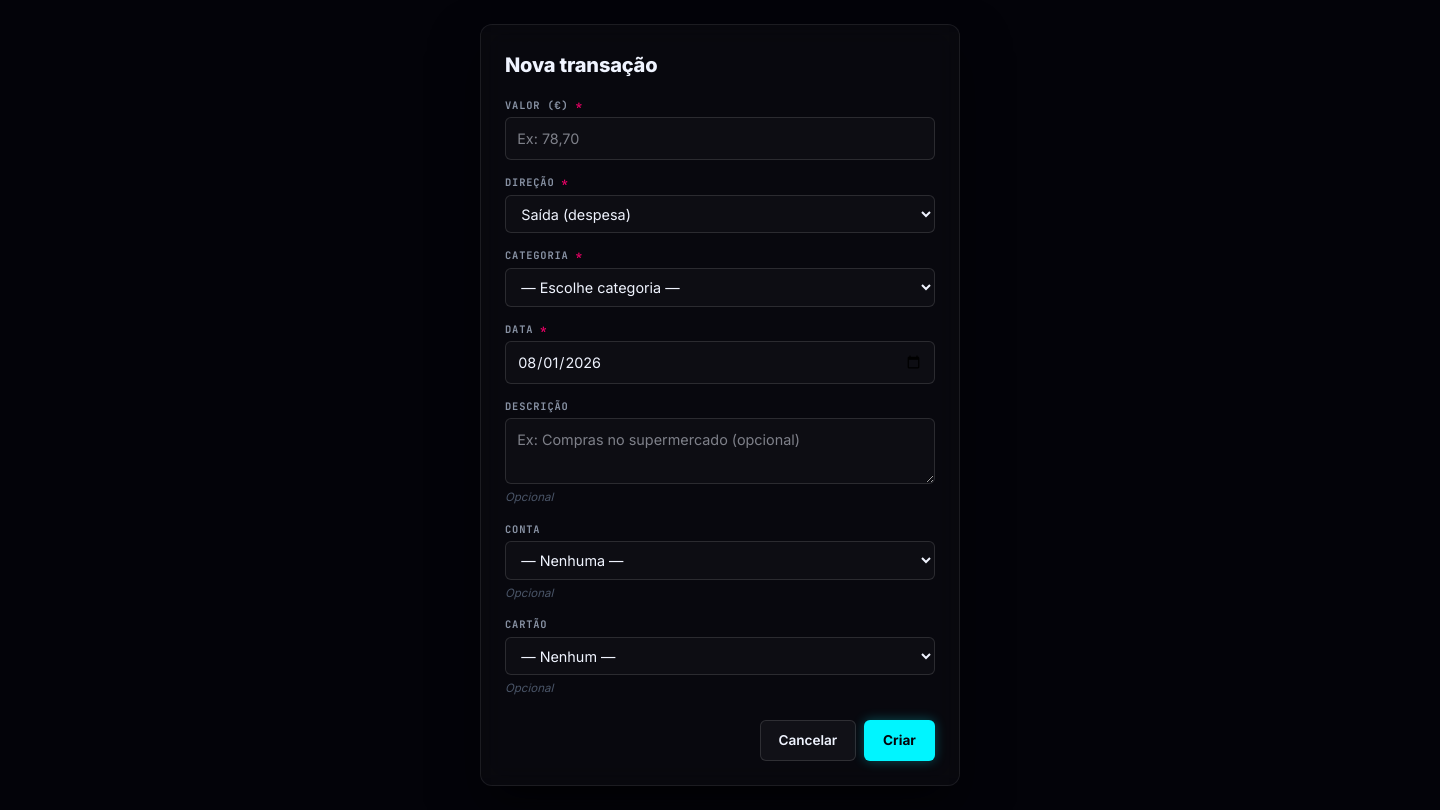
Test: TransactionFormModal (Story 9.1b / cobertura finanças) › caminho de erro 2 (Zod) — categoria vazia mostra "Categoria é obrigatória"
Type "10,00" into the field with id "transaction-amount" at (720,139), box [505,118,935,160]
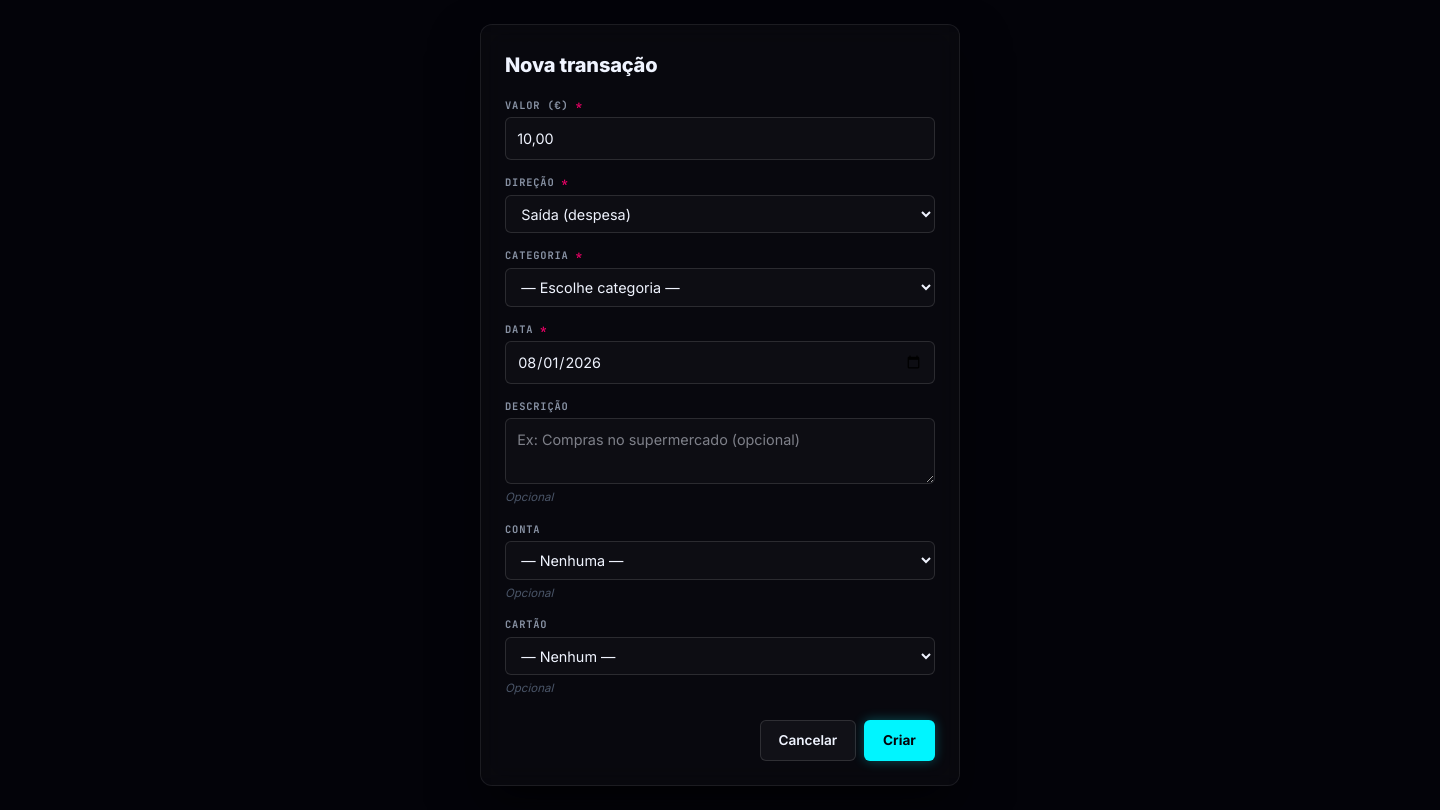
Click the button "Criar" at (899,740), box [864,720,935,761]
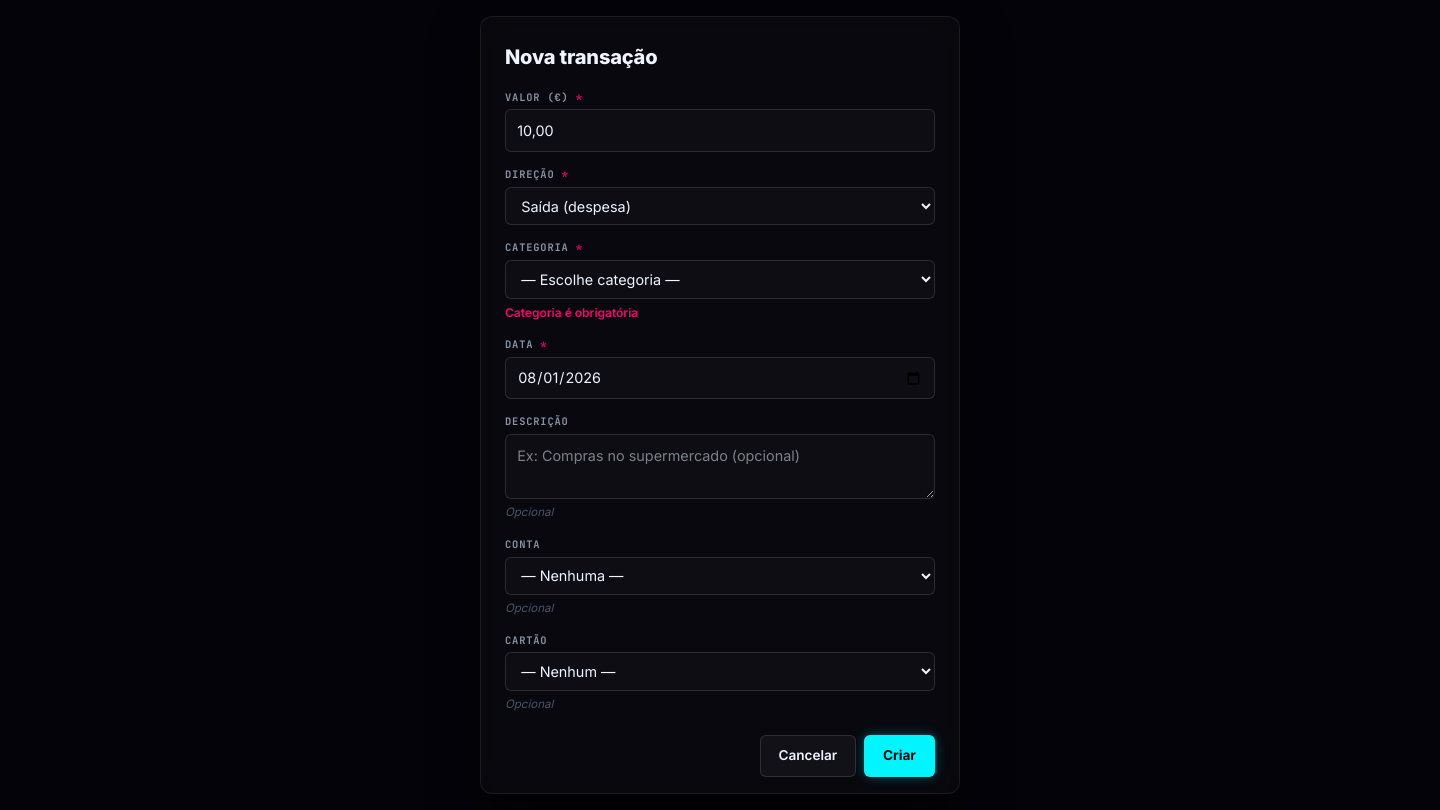
Expected: the text "Categoria é obrigatória" is shown, [505,305,638,320]
